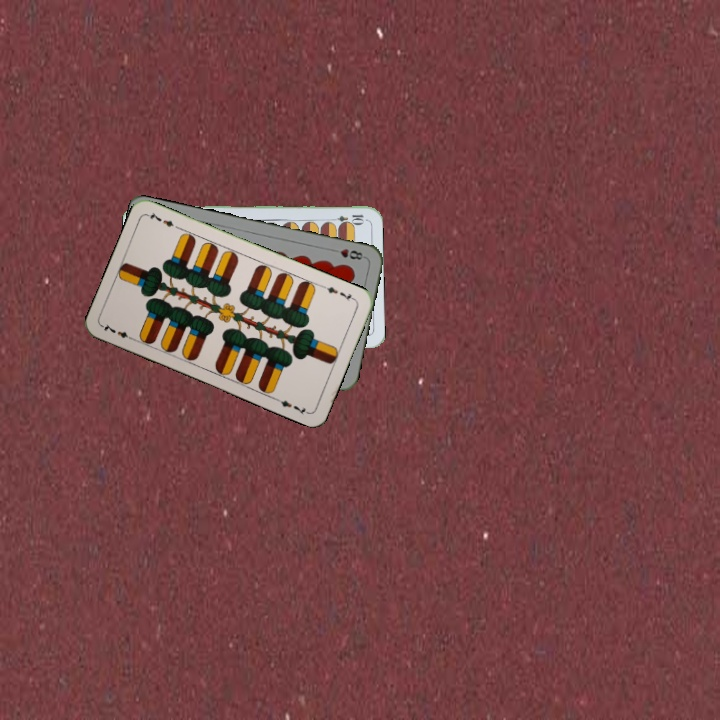E10: (326, 210, 366, 225)
E7: (99, 319, 137, 343), (319, 281, 358, 303)
H8: (328, 244, 368, 262)
